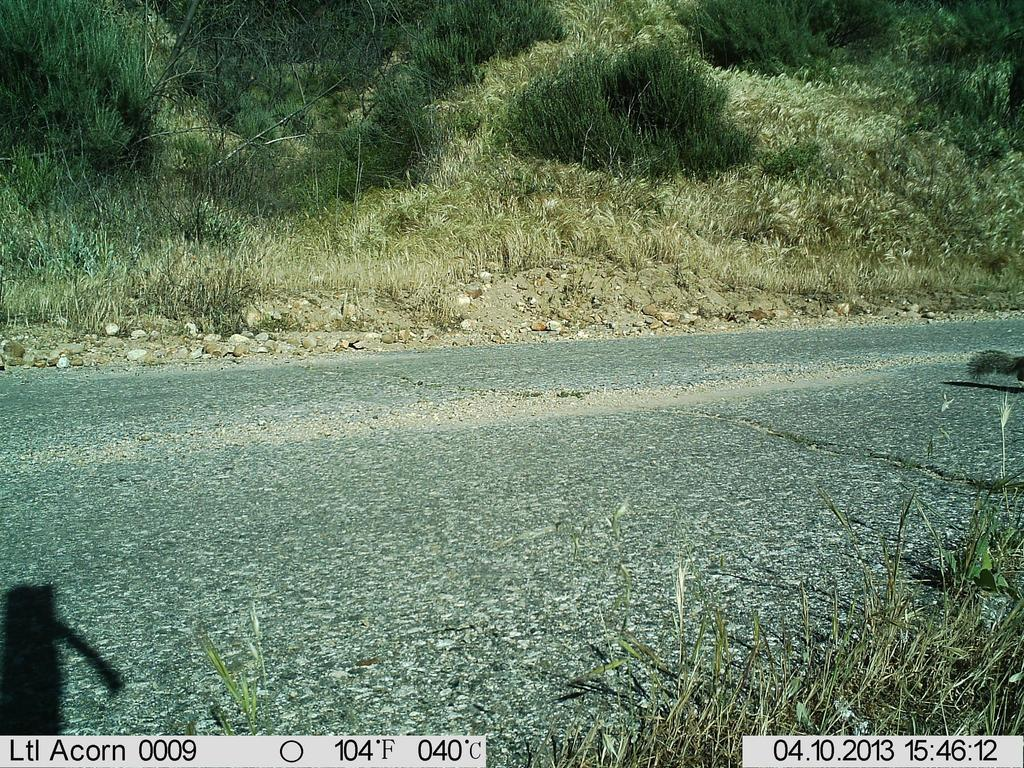squirrel: (958, 346, 1023, 395)
